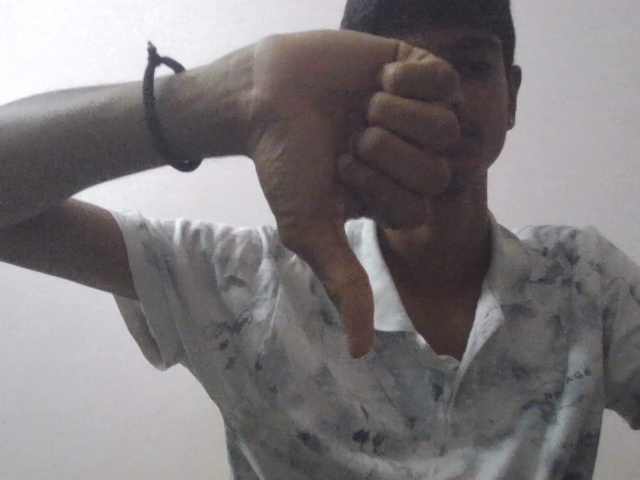no: (245, 21, 462, 365)
